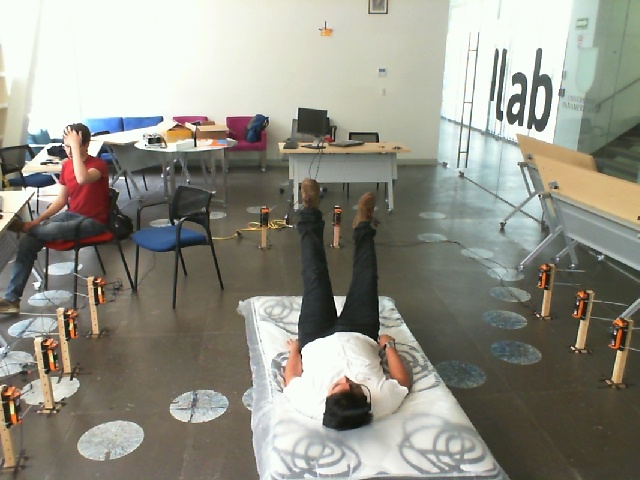fall: (268, 176, 418, 438)
not_fallen: (0, 110, 123, 325)
